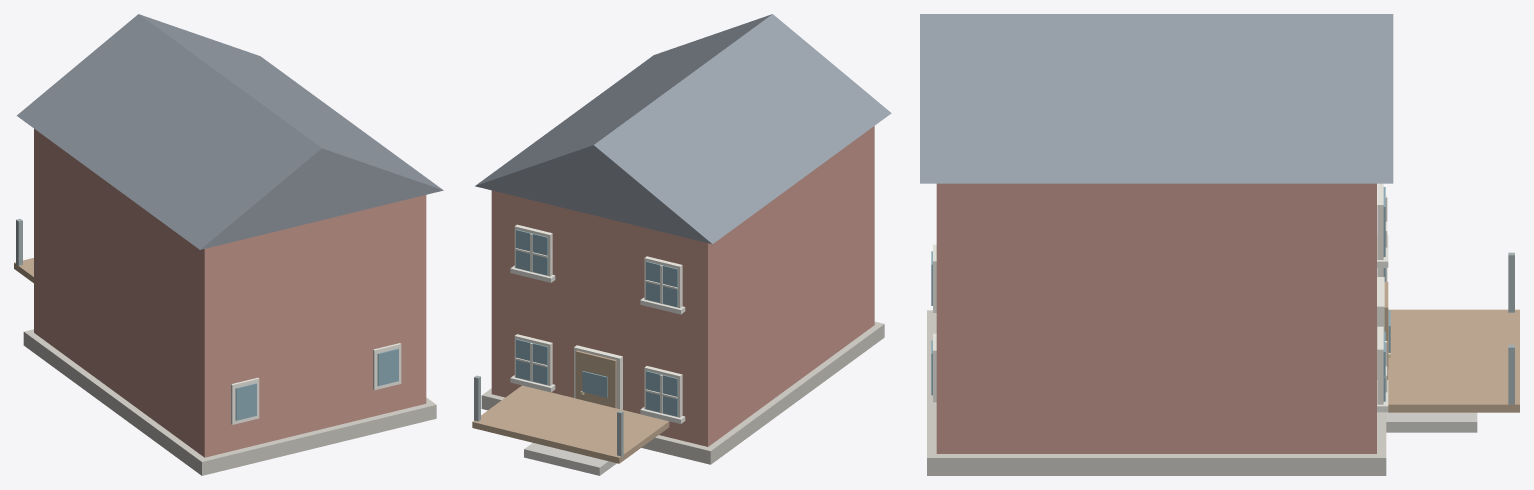
Rendered from House_Townhouse.glb.
3 views of the same model, side by side, from view 1: azimuth 30°, elevation 25°; view 2: azimuth 150°, elevation 25°; view 3: azimuth 270°, elevation 25° (orthographic). The views are drawn at different scales.
Parts seen in each view (by area): view 1: 001_exterior_001, 002_gable_roof_002, 000_foundation_000, 031_rear_glass_031, 029_rear_glass_029, 030_rear_window_030, 028_rear_window_028; view 2: 001_exterior_001, 002_gable_roof_002, 032_front_terrace_032, 000_foundation_000, 024_door_024, 027_stoop_027, 014_window_glass_014, 009_window_glass_009, 019_window_glass_019, 004_window_glass_004, 023_door_trim_023, 026_door_glazing_026 (+4 smaller); view 3: 001_exterior_001, 002_gable_roof_002, 032_front_terrace_032, 000_foundation_000, 027_stoop_027.
Boxes of the visible parts, box(x1,y1,x2,y2) form: 001_exterior_001: box(34, 129, 426, 457); 002_gable_roof_002: box(16, 14, 443, 249); 000_foundation_000: box(23, 329, 436, 475); 031_rear_glass_031: box(377, 348, 398, 385); 029_rear_glass_029: box(235, 383, 256, 420); 030_rear_window_030: box(373, 343, 401, 390); 028_rear_window_028: box(231, 377, 259, 424); 001_exterior_001: box(491, 126, 874, 446); 002_gable_roof_002: box(475, 14, 891, 244); 032_front_terrace_032: box(472, 385, 669, 463); 000_foundation_000: box(481, 321, 884, 464); 024_door_024: box(575, 350, 616, 408); 027_stoop_027: box(524, 443, 616, 475); 014_window_glass_014: box(646, 261, 677, 306); 009_window_glass_009: box(516, 339, 547, 384); 019_window_glass_019: box(516, 229, 547, 275); 004_window_glass_004: box(646, 371, 677, 416); 023_door_trim_023: box(574, 345, 622, 409); 026_door_glazing_026: box(582, 371, 607, 397); 001_exterior_001: box(936, 183, 1376, 453); 002_gable_roof_002: box(920, 14, 1393, 183); 032_front_terrace_032: box(1388, 309, 1519, 412); 000_foundation_000: box(927, 310, 1386, 475); 027_stoop_027: box(1386, 412, 1477, 432).
Bounding box in the file's own units: 6.6 × 7.91 × 10.9.
